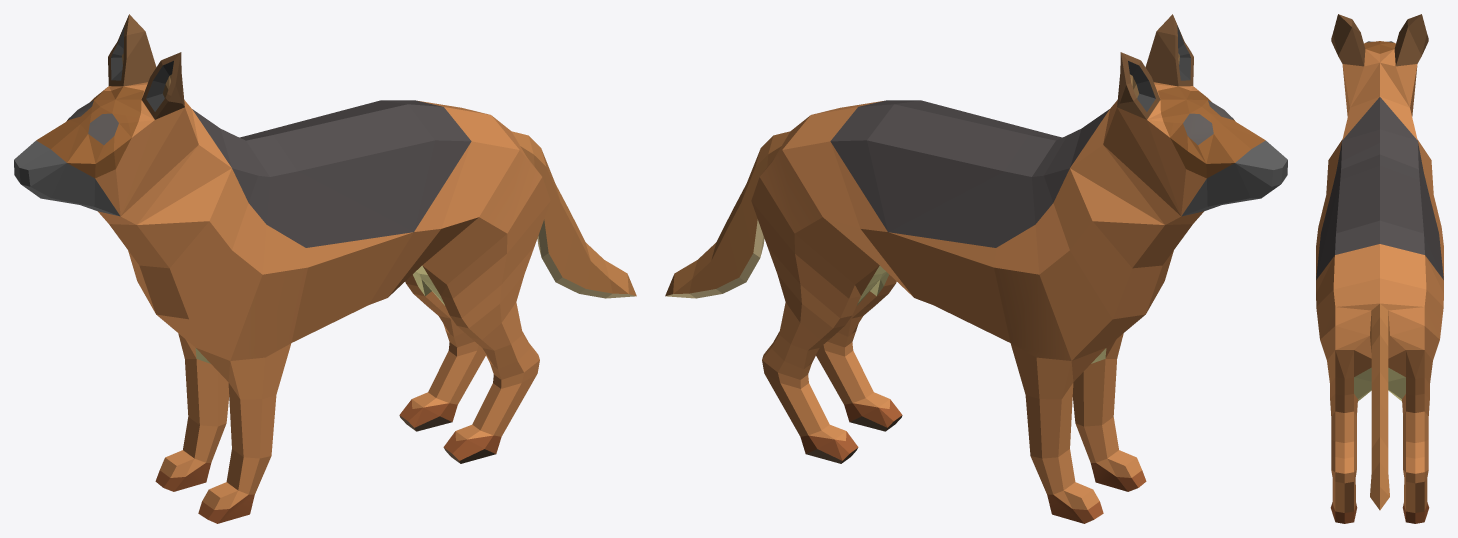
File: dog.fbx
The picture shows the model from 3 angles, left to right: view 1: azimuth 30°, elevation 25°; view 2: azimuth 150°, elevation 25°; view 3: azimuth 270°, elevation 25°; orthographic projection. The views are drawn at different scales.
Parts seen in each view (by area): view 1: dog; view 2: dog; view 3: dog.
Boxes of the visible parts, x1=… form: dog: x1=14, y1=14, x2=636, y2=523; dog: x1=665, y1=14, x2=1287, y2=523; dog: x1=1316, y1=14, x2=1443, y2=523.
Bounding box in the file's own units: 917 × 680 × 204.
